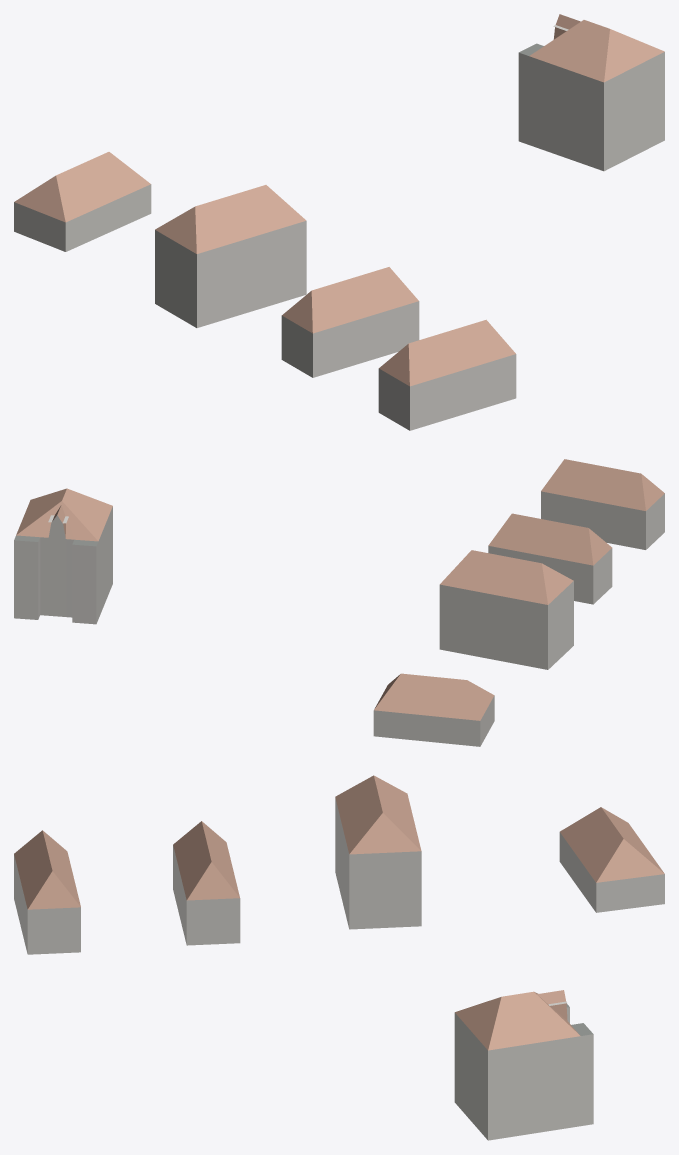
Rendered from gridID_54.dae.
3 views of the same model, one above another, from view 1: azimuth 30°, elevation 25°; view 2: azimuth 150°, elevation 25°; view 3: azimuth 270°, elevation 25° (orthographic). The views are drawn at different scales.
Visible parts, largest first — view 1: model_gridID_54_w399620549_001, model_gridID_54_w376378562, model_gridID_54_w376378556, model_gridID_54_w376378587, model_gridID_54_w376378582; view 2: model_gridID_54_w376378562, model_gridID_54_w399620549_001, model_gridID_54_w376378556, model_gridID_54_w376378582, model_gridID_54_w376378587; view 3: model_gridID_54_w399620549_001, model_gridID_54_w376378562, model_gridID_54_w376378582, model_gridID_54_w376378587, model_gridID_54_w376378556.
Boxes of the visible parts, x1=… form: model_gridID_54_w399620549_001: x1=518, y1=14, x2=664, y2=171; model_gridID_54_w376378562: x1=155, y1=185, x2=306, y2=327; model_gridID_54_w376378556: x1=378, y1=319, x2=516, y2=430; model_gridID_54_w376378587: x1=281, y1=267, x2=419, y2=377; model_gridID_54_w376378582: x1=14, y1=152, x2=151, y2=251; model_gridID_54_w376378562: x1=439, y1=550, x2=573, y2=669; model_gridID_54_w399620549_001: x1=14, y1=488, x2=112, y2=624; model_gridID_54_w376378556: x1=541, y1=459, x2=664, y2=549; model_gridID_54_w376378582: x1=373, y1=673, x2=494, y2=746; model_gridID_54_w376378587: x1=488, y1=513, x2=612, y2=604; model_gridID_54_w399620549_001: x1=454, y1=990, x2=593, y2=1140; model_gridID_54_w376378562: x1=335, y1=775, x2=421, y2=929; model_gridID_54_w376378582: x1=559, y1=807, x2=664, y2=912; model_gridID_54_w376378587: x1=173, y1=821, x2=240, y2=945; model_gridID_54_w376378556: x1=14, y1=830, x2=80, y2=954.
Size of the model in its own units: 103 by 98.26 by 20.
